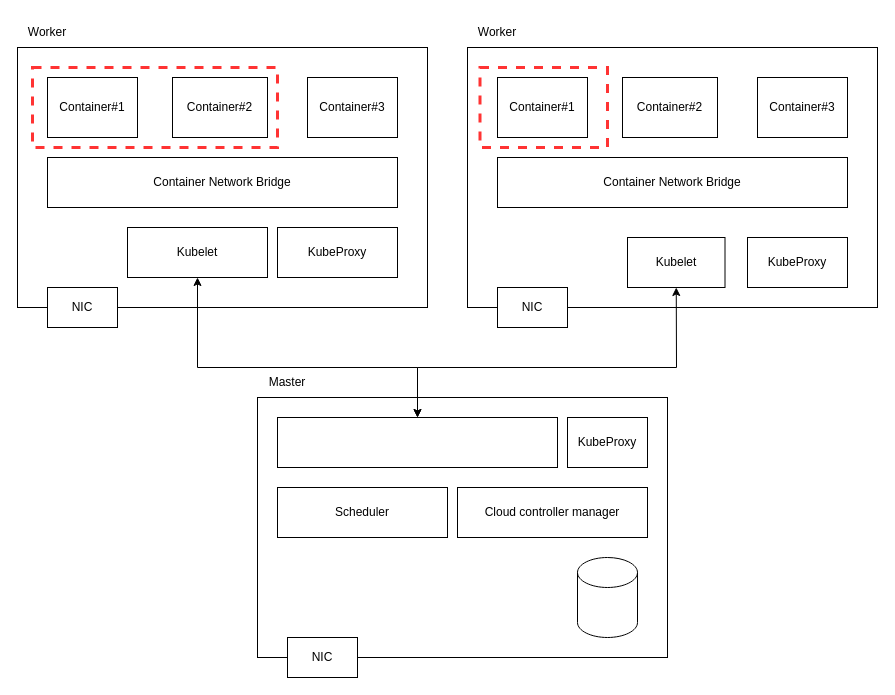
The diagram is 895 pixels wide and 695 high, and some of its shapes have lost their labels. Here are the shapes that lost their labels. From the top down, the box of each, then its label:
(276, 416, 558, 468): Kube API Server
(576, 556, 638, 638): ETCD
